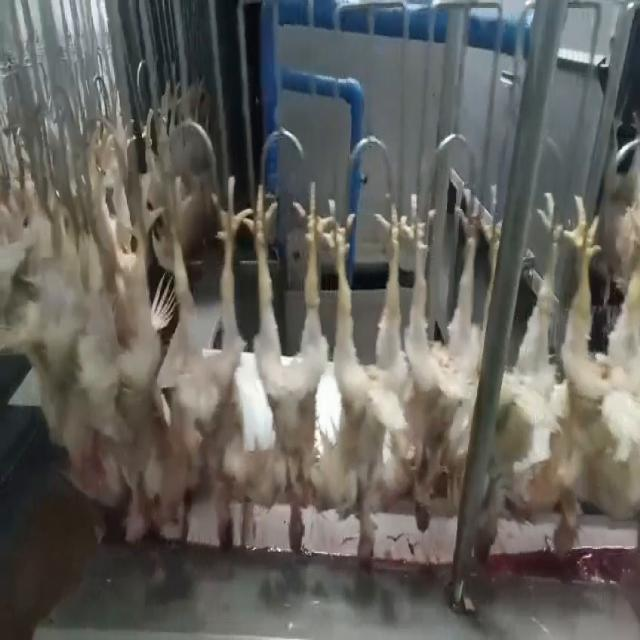chicken: (322, 192, 417, 567), (554, 180, 639, 559), (476, 188, 562, 561), (396, 183, 487, 534), (168, 172, 251, 552), (100, 183, 174, 549), (254, 180, 322, 558)
